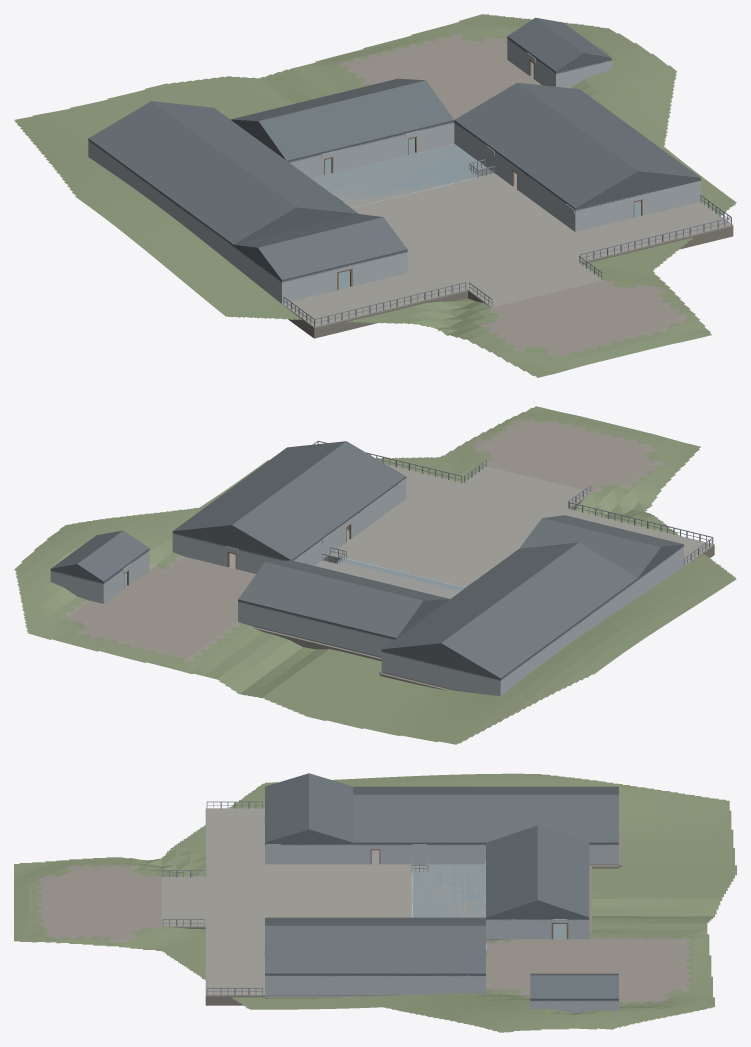
The model's file is constant-cells.glb.
3 views of the same model, one above another, from view 1: azimuth 30°, elevation 25°; view 2: azimuth 150°, elevation 25°; view 3: azimuth 270°, elevation 25° (orthographic). The views are drawn at different scales.
Parts seen in each view (by area): view 1: Saved editor rectangular stair-cell terrain WLD-08, WLD-08 compound service forecourt structural surface region0, WLD-08 raised courtyard terrace structural surface region0, dormitory-and-mess roof west, radio-records roof south, laboratory roof west, generator-building roof west, Entrance rebuild Research courtyard structural deck region0, stores roof south, dormitory-and-mess roof east, WLD-08 main tunnel roof with rectangular wells region0, laboratory roof east (+22 smaller); view 2: Saved editor rectangular stair-cell terrain WLD-08, WLD-08 raised courtyard terrace structural surface region0, dormitory-and-mess roof west, radio-records roof north, WLD-08 compound service forecourt structural surface region0, generator-building roof west, laboratory roof west, dormitory-and-mess roof east, stores roof north, generator-building roof east, laboratory roof east, WLD-08 arrival apron structural surface region0 (+19 smaller); view 3: Saved editor rectangular stair-cell terrain WLD-08, WLD-08 compound service forecourt structural surface region0, dormitory-and-mess roof east, WLD-08 raised courtyard terrace structural surface region0, laboratory roof east, generator-building roof east, radio-records roof north, radio-records roof south, Entrance rebuild Research courtyard structural deck region0, WLD-08 main tunnel roof with rectangular wells region0, stores roof north, stores roof south (+14 smaller).
Boxes of the visible parts, bbox=[...] form: Saved editor rectangular stair-cell terrain WLD-08: bbox=[14, 14, 736, 377]; WLD-08 compound service forecourt structural surface region0: bbox=[282, 201, 733, 328]; WLD-08 raised courtyard terrace structural surface region0: bbox=[352, 173, 574, 272]; dormitory-and-mess roof west: bbox=[454, 83, 637, 209]; radio-records roof south: bbox=[258, 80, 454, 161]; laboratory roof west: bbox=[161, 154, 296, 245]; generator-building roof west: bbox=[88, 101, 223, 192]; Entrance rebuild Research courtyard structural deck region0: bbox=[312, 143, 493, 200]; stores roof south: bbox=[257, 217, 407, 281]; dormitory-and-mess roof east: bbox=[517, 82, 700, 178]; WLD-08 main tunnel roof with rectangular wells region0: bbox=[314, 145, 483, 207]; laboratory roof east: bbox=[224, 154, 358, 214]; Saved editor rectangular stair-cell terrain WLD-08: bbox=[14, 406, 736, 744]; WLD-08 raised courtyard terrace structural surface region0: bbox=[330, 499, 532, 587]; dormitory-and-mess roof west: bbox=[232, 441, 406, 560]; radio-records roof north: bbox=[238, 562, 423, 638]; WLD-08 compound service forecourt structural surface region0: bbox=[385, 464, 714, 566]; generator-building roof west: bbox=[441, 593, 569, 679]; laboratory roof west: bbox=[510, 542, 638, 629]; dormitory-and-mess roof east: bbox=[172, 441, 345, 532]; stores roof north: bbox=[519, 518, 660, 578]; generator-building roof east: bbox=[381, 593, 508, 650]; laboratory roof east: bbox=[451, 542, 577, 598]; WLD-08 arrival apron structural surface region0: bbox=[463, 466, 591, 508]; Saved editor rectangular stair-cell terrain WLD-08: bbox=[14, 773, 736, 1032]; WLD-08 compound service forecourt structural surface region0: bbox=[205, 808, 264, 996]; dormitory-and-mess roof east: bbox=[265, 925, 485, 974]; WLD-08 raised courtyard terrace structural surface region0: bbox=[265, 864, 412, 917]; laboratory roof east: bbox=[353, 794, 485, 844]; generator-building roof east: bbox=[486, 794, 618, 844]; radio-records roof north: bbox=[537, 825, 589, 918]; radio-records roof south: bbox=[486, 825, 537, 918]; Entrance rebuild Research courtyard structural deck region0: bbox=[412, 864, 485, 917]; WLD-08 main tunnel roof with rectangular wells region0: bbox=[412, 864, 485, 917]; stores roof north: bbox=[309, 773, 353, 843]; stores roof south: bbox=[265, 773, 308, 843].
Bounding box in the file's own units: 83 × 9.04 × 98.
36 materials, 22 textured.
